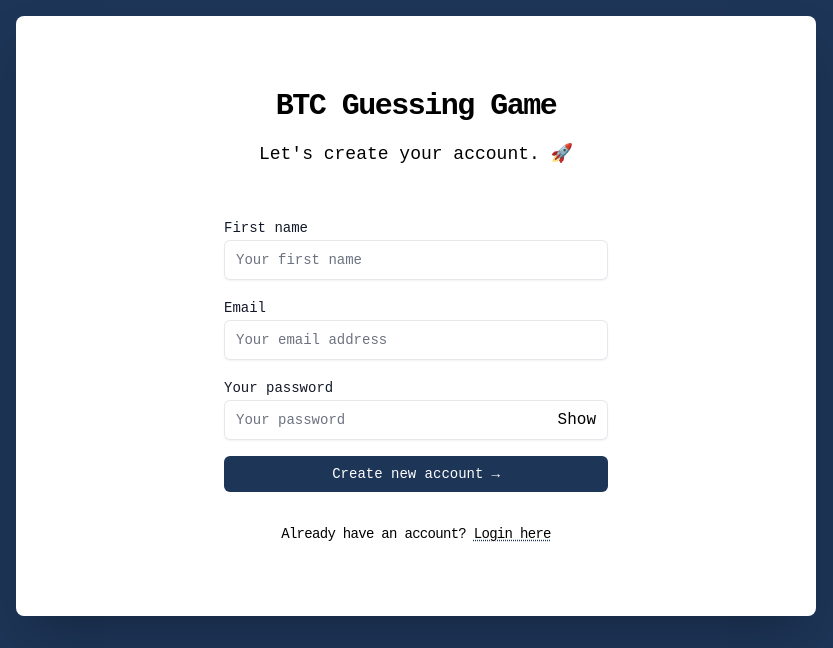
CreateUser Component › Displays validation errors based on the created schema on invalid input
Click the button "Create new account →": {"x": 416, "y": 474} [224,456,608,492]
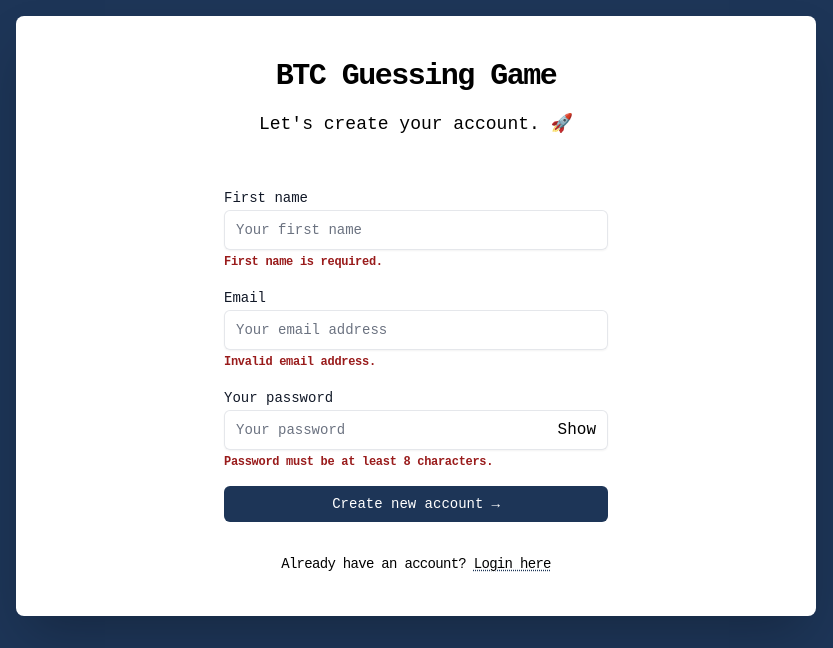
Now the text "First name is required." is shown, box [224,255,383,269]
Now the text "Invalid email address." is shown, box [224,355,376,369]
Now the text "Password must be at least 8 characters." is shown, box [224,455,493,469]
